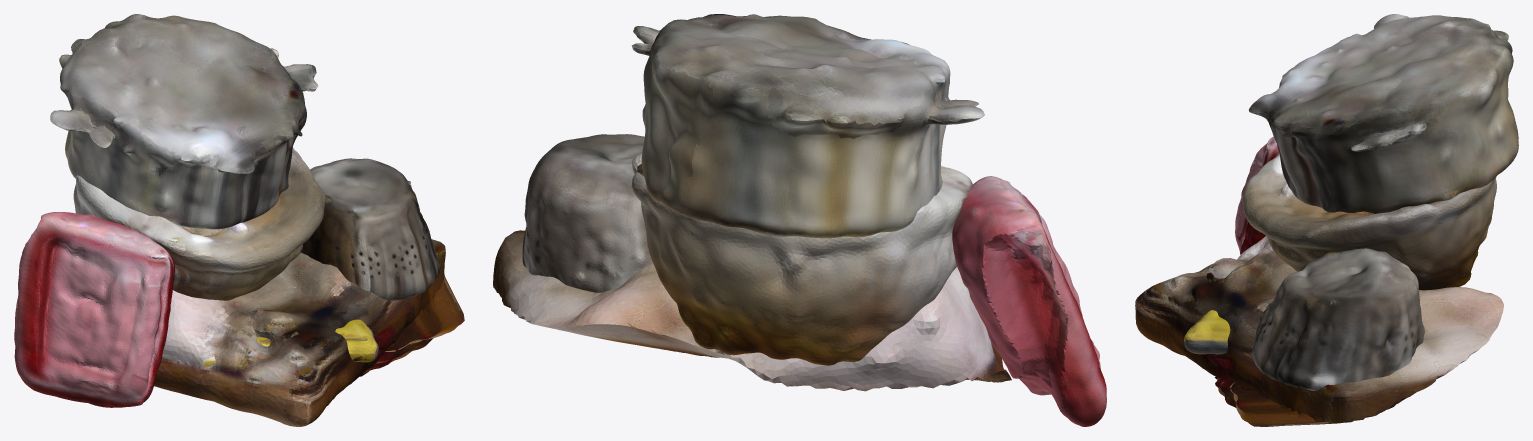
The model's file is gen3dsr_no_bg.glb.
The picture shows the model from 3 angles, left to right: view 1: azimuth 30°, elevation 25°; view 2: azimuth 150°, elevation 25°; view 3: azimuth 270°, elevation 25°; orthographic projection. The views are drawn at different scales.
Visible parts, largest first — view 1: 0.obj, 4.obj, 3.obj, 1.obj, 2.obj, 5.obj; view 2: 0.obj, 1.obj, 4.obj, 3.obj, 2.obj; view 3: 0.obj, 4.obj, 2.obj, 1.obj, 5.obj, 3.obj.
Boxes of the visible parts, left/top/right/bottom form: 0.obj: left=50, top=14, right=318, bottom=229; 4.obj: left=154, top=239, right=464, bottom=426; 3.obj: left=14, top=212, right=174, bottom=407; 1.obj: left=73, top=147, right=325, bottom=300; 2.obj: left=300, top=158, right=440, bottom=300; 5.obj: left=203, top=319, right=378, bottom=367; 0.obj: left=631, top=14, right=984, bottom=238; 1.obj: left=631, top=151, right=972, bottom=365; 4.obj: left=493, top=230, right=1011, bottom=391; 3.obj: left=952, top=176, right=1106, bottom=426; 2.obj: left=522, top=134, right=652, bottom=292; 0.obj: left=1249, top=14, right=1518, bottom=213; 4.obj: left=1135, top=236, right=1503, bottom=426; 2.obj: left=1252, top=248, right=1425, bottom=390; 1.obj: left=1242, top=153, right=1496, bottom=290; 5.obj: left=1184, top=310, right=1230, bottom=354; 3.obj: left=1235, top=136, right=1279, bottom=254.
Bounding box in the file's own units: 0.7274 × 0.4708 × 0.5514.
Materials: 6 (6 with a texture image).
